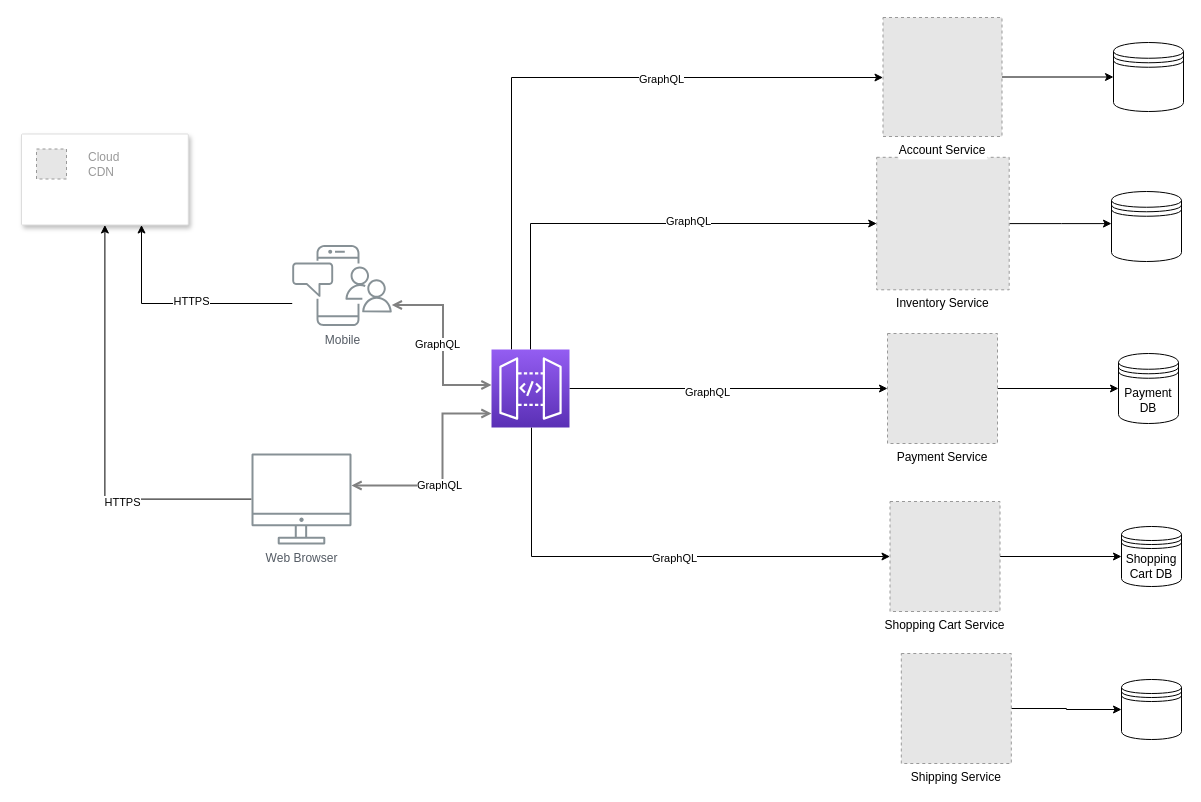
Some shapes in this 1201 by 802 pixel diagram are drawn without their labels. Grey dashed boxes stand in for pictures. The shapes that lost their labels are listed below. From the top down, each one's centre as x and y in pixels, then its label:
(1148,77): Users DB
(1146,226): Inventory DB
(530,388): API Gateway
(1151,709): Shipping DB
